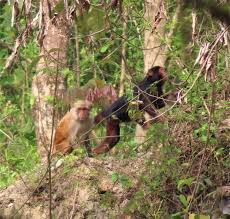monkey: (29, 13, 194, 189)
